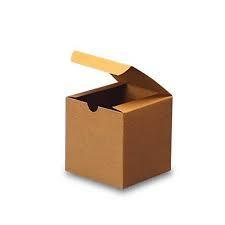box: (64, 49, 173, 192)
